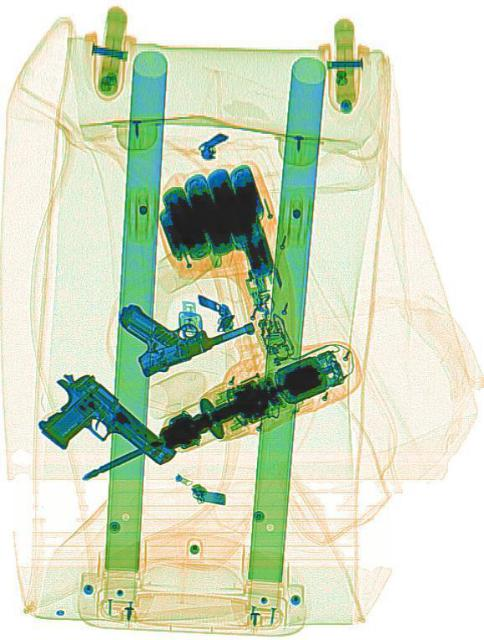Gun: (29, 354, 174, 516), (115, 261, 254, 383)
